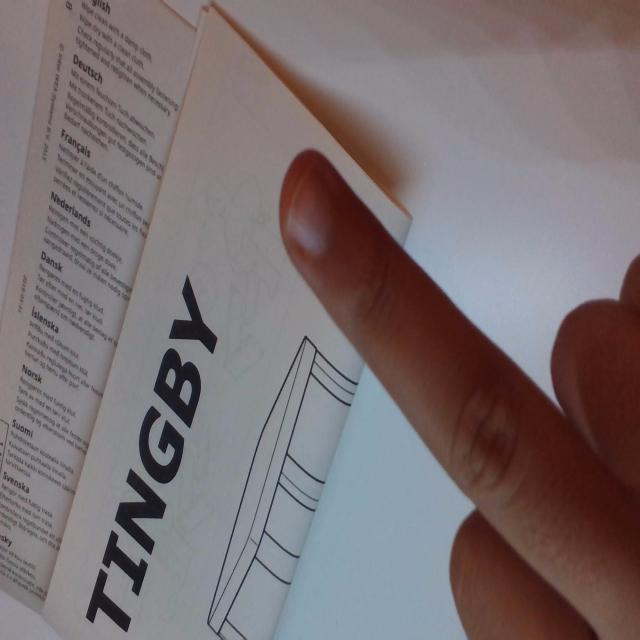Paper: (1, 0, 417, 640)
